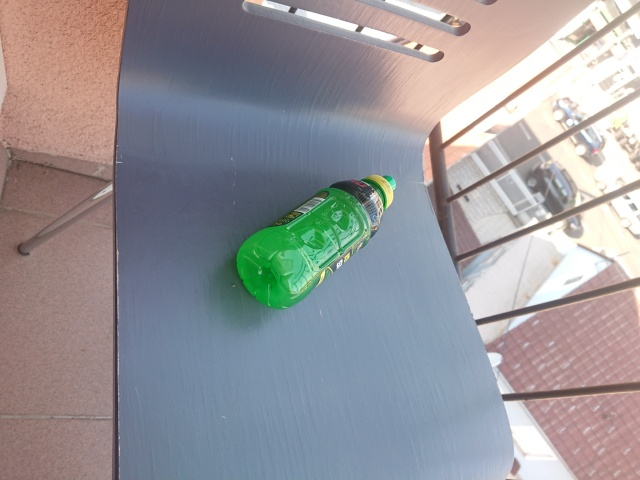Vindi Iso Sport Lemon-Grapefruit 500mL: (232, 171, 399, 312)
